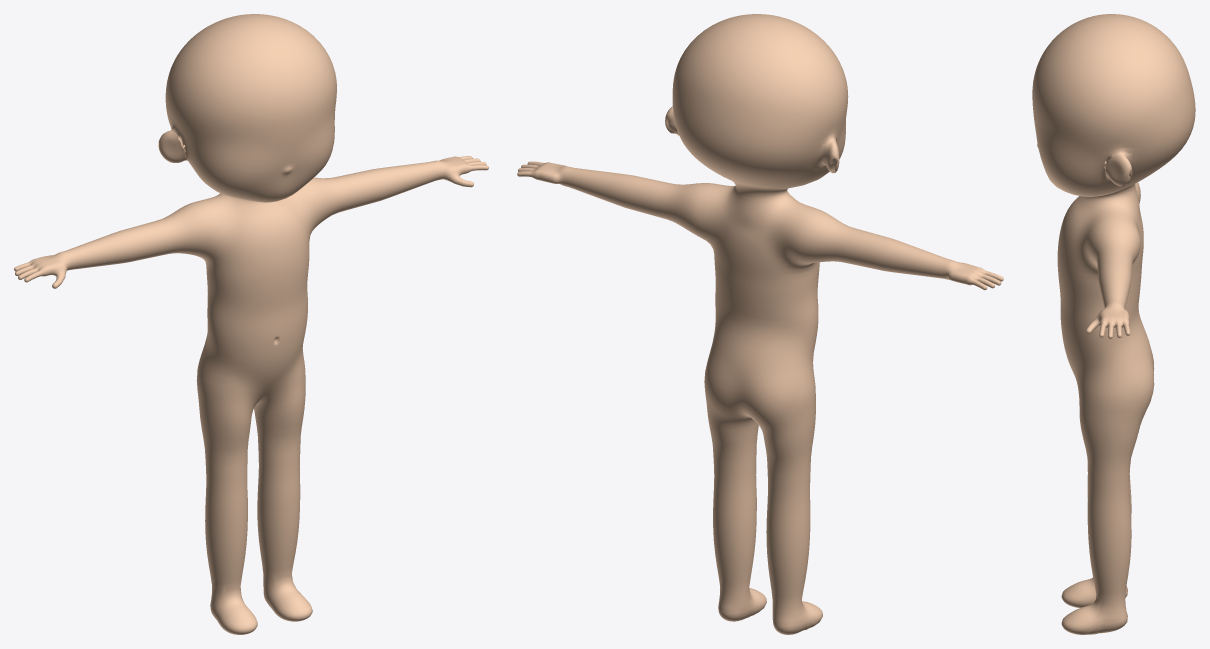
File: male_tall_mesh_only.fbx
The picture shows the model from 3 angles, left to right: view 1: azimuth 30°, elevation 25°; view 2: azimuth 150°, elevation 25°; view 3: azimuth 270°, elevation 25°; orthographic projection. The views are drawn at different scales.
Visible parts, largest first — view 1: Body; view 2: Body; view 3: Body.
Boxes of the visible parts, x1,y1,x2,y2 form: Body: (14, 14, 488, 634); Body: (517, 14, 1003, 634); Body: (1032, 14, 1195, 634).
Size of the model in its own units: 144 by 174 by 43.35.
